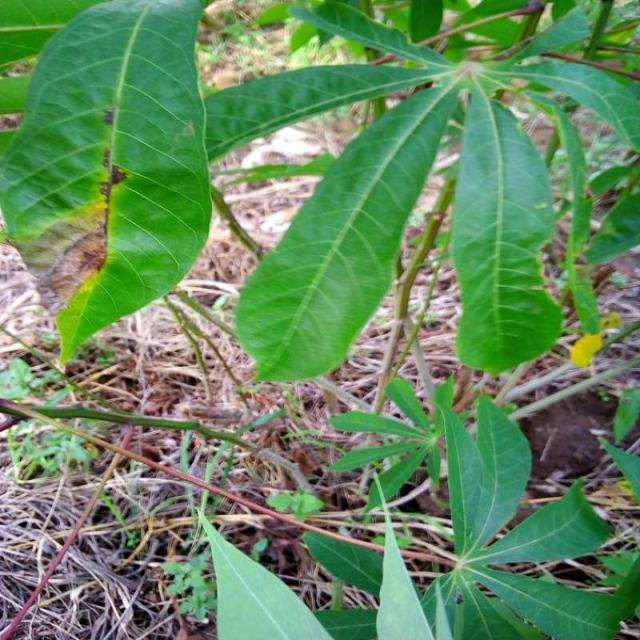cassava leaf: (0, 0, 213, 368), (233, 68, 462, 384), (450, 77, 562, 375)
